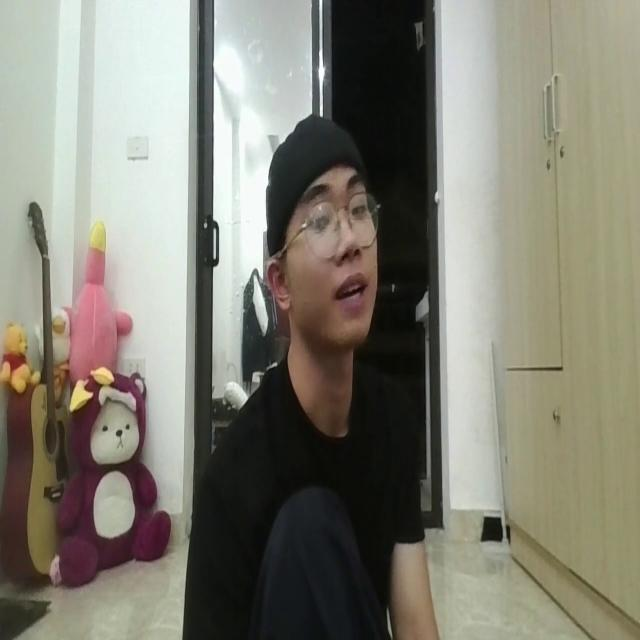student: (186, 104, 438, 640)
